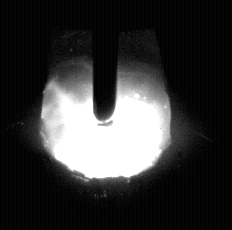arame: (94, 0, 118, 122)
poca: (39, 0, 171, 230)
